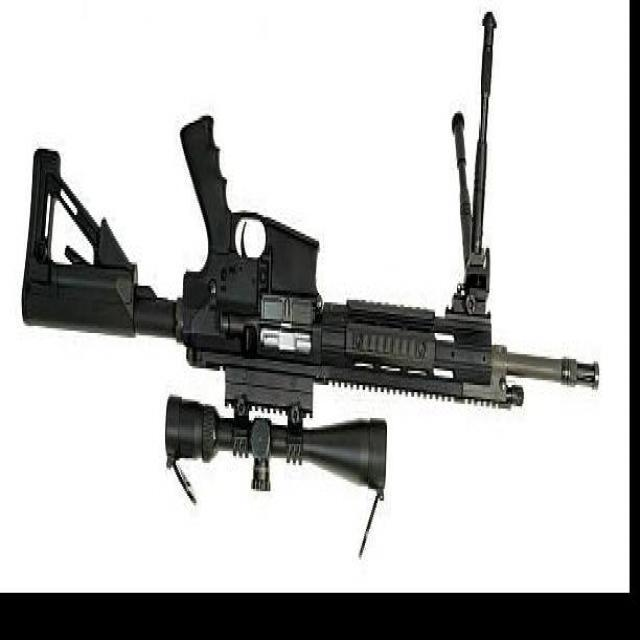weapon: (22, 8, 600, 561)
